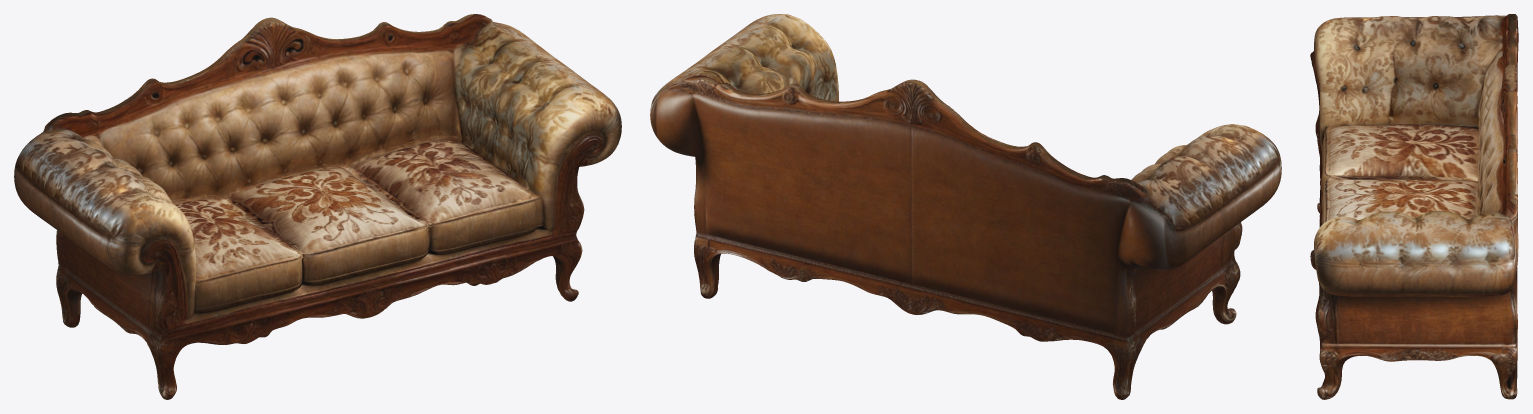
Rendered from test_sofa.glb.
3 views of the same model, side by side, from view 1: azimuth 30°, elevation 25°; view 2: azimuth 150°, elevation 25°; view 3: azimuth 270°, elevation 25° (orthographic). The views are drawn at different scales.
Parts seen in each view (by area): view 1: Mesh_0_Material_0_0; view 2: Mesh_0_Material_0_0; view 3: Mesh_0_Material_0_0.
Part boxes in pixels (box(x1,y1,x2,y2)): Mesh_0_Material_0_0: box(14, 14, 621, 399); Mesh_0_Material_0_0: box(650, 14, 1281, 399); Mesh_0_Material_0_0: box(1310, 14, 1518, 399).
Bounding box in the file's own units: 2.6 × 1.25 × 0.9734.
Materials: 1 (1 with a texture image).
